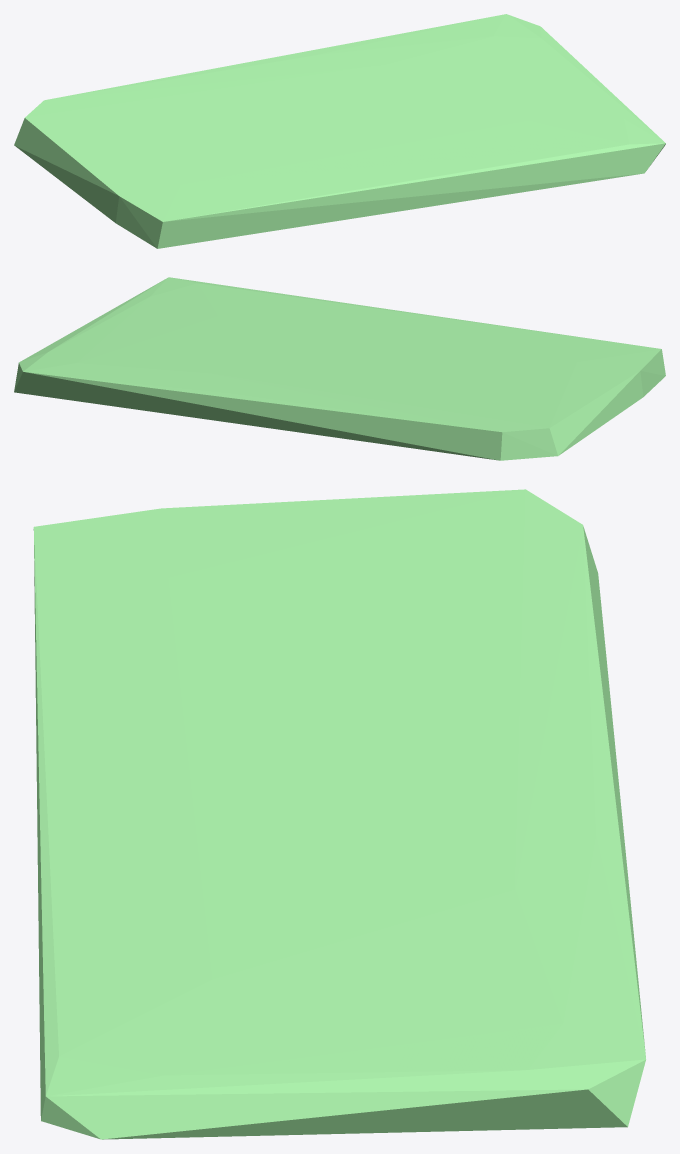
The model's file is UMIRobot_UMIRobot_link_5_convex_coll_64.dae.
3 views of the same model, one above another, from view 1: azimuth 30°, elevation 25°; view 2: azimuth 150°, elevation 25°; view 3: azimuth 270°, elevation 25° (orthographic). The views are drawn at different scales.
Visible parts, largest first — view 1: node; view 2: node; view 3: node.
Part boxes in pixels (x1,y1,x2,y2): node: (14, 14, 665, 248); node: (14, 277, 665, 460); node: (33, 489, 646, 1139).
Size of the model in its own units: 0.0213 by 0.00319 by 0.0108.
